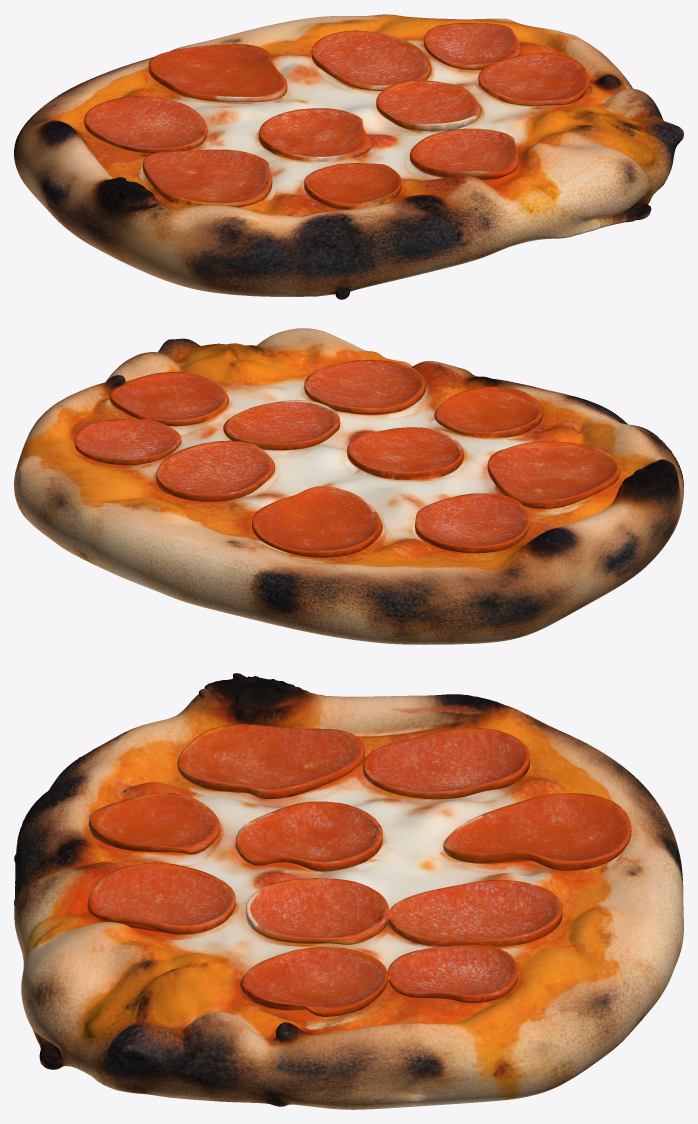
The model's file is pizza-CJEcTVGw.glb.
3 views of the same model, one above another, from view 1: azimuth 30°, elevation 25°; view 2: azimuth 150°, elevation 25°; view 3: azimuth 270°, elevation 25° (orthographic). The views are drawn at different scales.
Parts seen in each view (by area): view 1: node_0; view 2: node_0; view 3: node_0.
Boxes of the visible parts, x1,y1,x2,y2 form: node_0: [14, 14, 683, 299]; node_0: [14, 328, 683, 644]; node_0: [14, 673, 683, 1109].
Size of the model in its own units: 1.12 by 0.1572 by 0.8929.
Materials: 1 (1 with a texture image).
